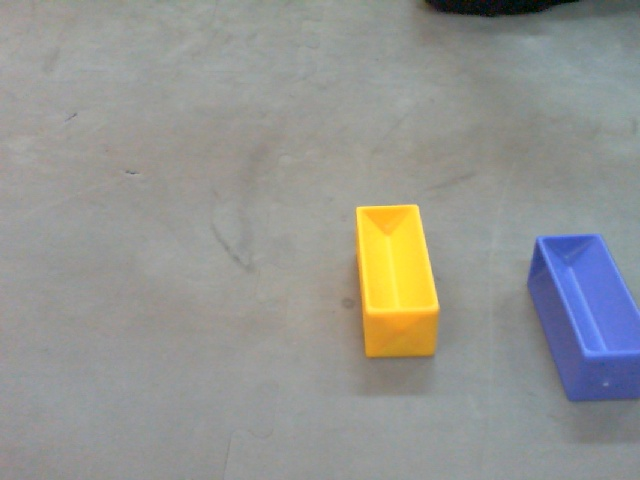BlueSample: (525, 221, 640, 407)
YellowSample: (352, 202, 444, 362)
